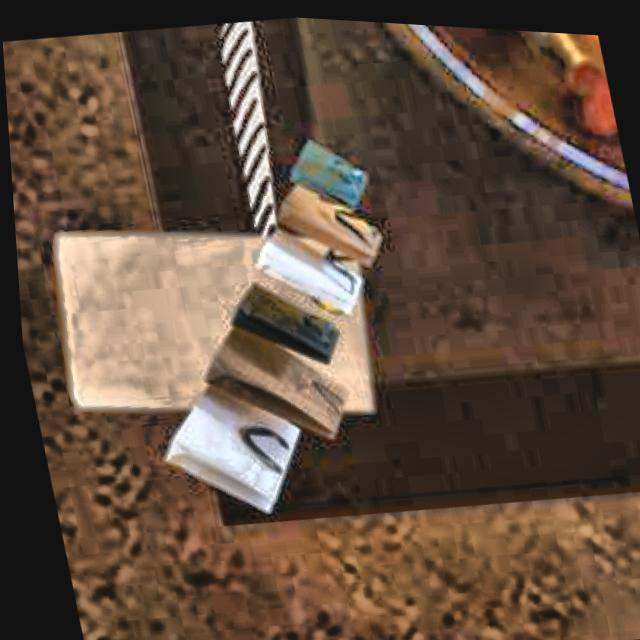Paper-bag: (112, 103, 448, 537), (21, 184, 393, 466)
